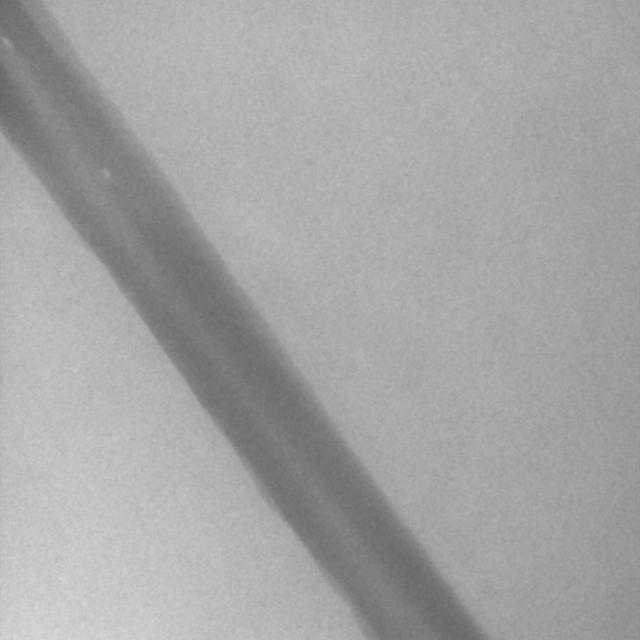air-hole: (0, 37, 15, 50), (103, 168, 113, 184)
